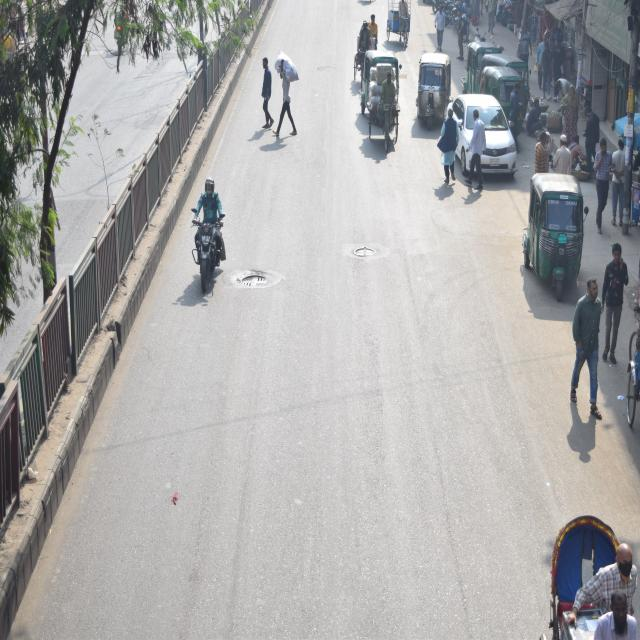car: (445, 87, 518, 179)
motorbike: (184, 202, 231, 308)
